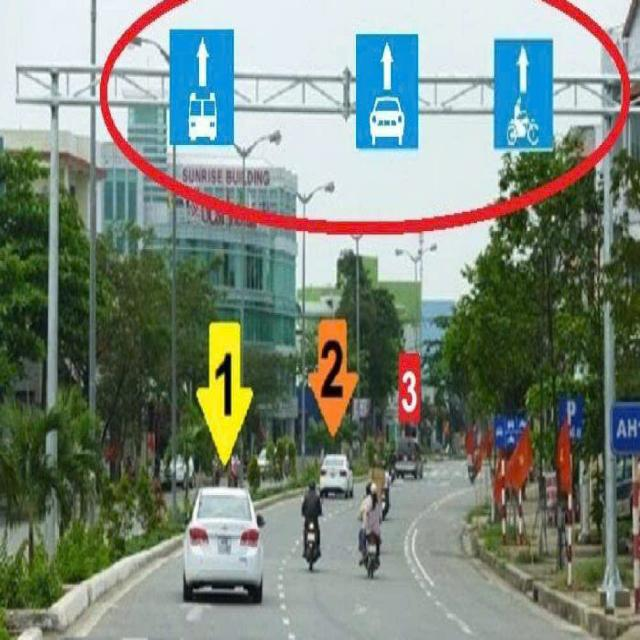car: (177, 463, 270, 608), (317, 432, 355, 504), (392, 420, 429, 488)
motobyte: (355, 474, 384, 586), (298, 471, 324, 576)
